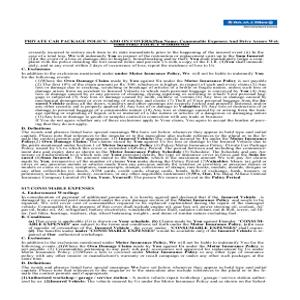text: (21, 126, 269, 183), (20, 71, 268, 125), (19, 184, 265, 219), (20, 260, 268, 289), (17, 237, 268, 260), (26, 49, 265, 68), (26, 220, 267, 237), (21, 36, 284, 48)
